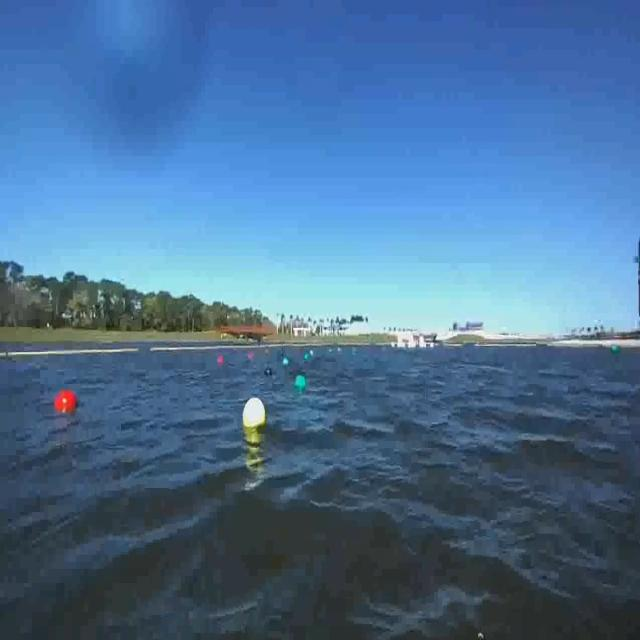black-buoy: (264, 367, 273, 379)
green-buoy: (294, 374, 307, 394), (610, 345, 619, 356)
red-buoy: (56, 392, 78, 416)
yellow-buoy: (241, 399, 265, 430)
